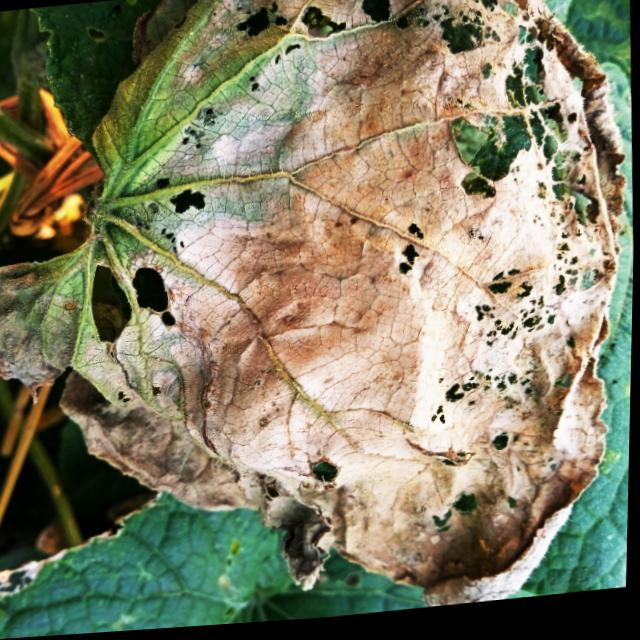Anthracnose: (234, 0, 627, 353), (423, 355, 549, 469), (80, 245, 182, 351), (148, 162, 216, 222), (422, 482, 482, 536), (391, 217, 431, 282), (305, 442, 347, 492)
